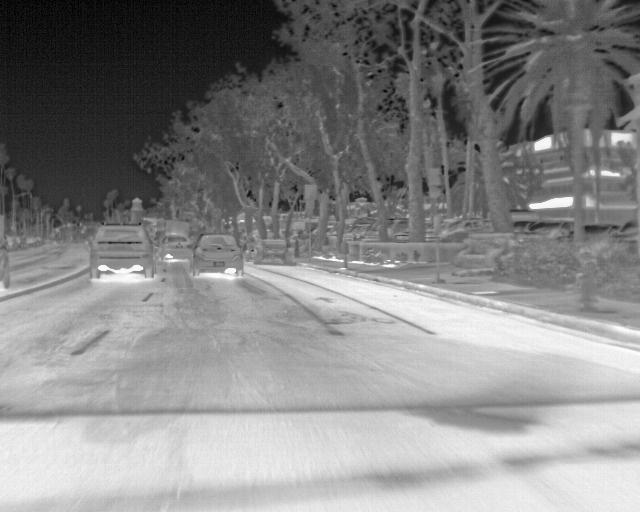bicycle: (88, 223, 157, 278), (191, 232, 244, 279), (155, 233, 194, 261)
